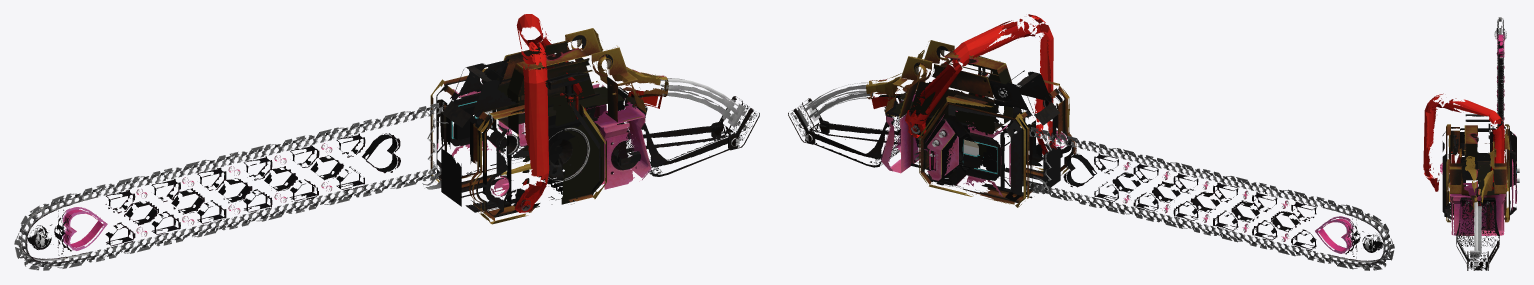
File: chainsaw.obj
3 views of the same model, side by side, from view 1: azimuth 30°, elevation 25°; view 2: azimuth 150°, elevation 25°; view 3: azimuth 270°, elevation 25° (orthographic). The views are drawn at different scales.
Visible parts, largest first — view 1: _000_SK_WP_Chainsaw_Normal; view 2: _000_SK_WP_Chainsaw_Normal; view 3: _000_SK_WP_Chainsaw_Normal.
Part boxes in pixels (bbox=[...]): _000_SK_WP_Chainsaw_Normal: bbox=[14, 14, 759, 270]; _000_SK_WP_Chainsaw_Normal: bbox=[788, 14, 1394, 270]; _000_SK_WP_Chainsaw_Normal: bbox=[1423, 17, 1519, 270].
Bounding box in the file's own units: 99.22 × 24.22 × 18.69.
2 materials, 2 textured.
